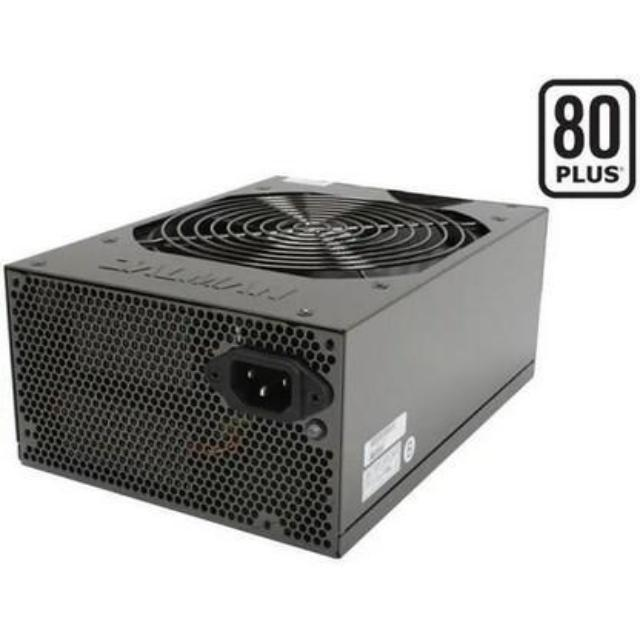PSU: (0, 142, 563, 584)
